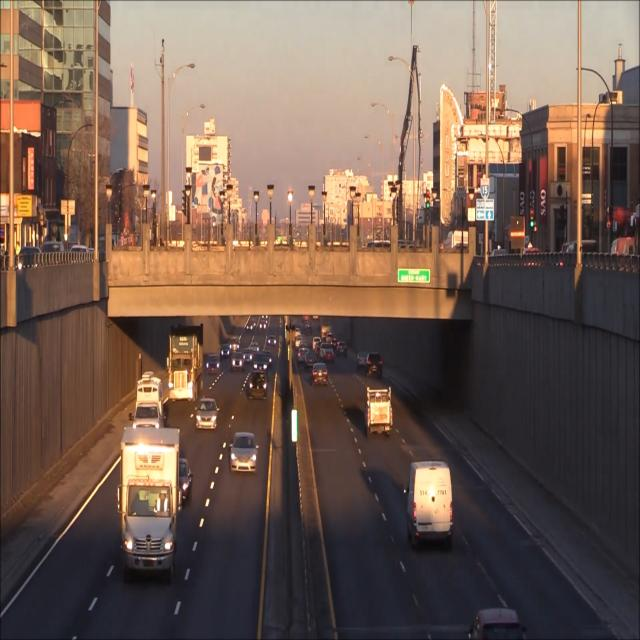Car: (116, 427, 182, 582), (406, 460, 452, 544), (167, 324, 204, 402), (131, 376, 164, 428), (363, 387, 392, 437), (229, 431, 259, 476), (194, 398, 219, 432), (249, 372, 268, 400), (365, 353, 383, 377), (312, 363, 329, 386), (206, 352, 220, 376), (304, 352, 318, 371), (230, 354, 244, 372), (358, 350, 368, 370)
